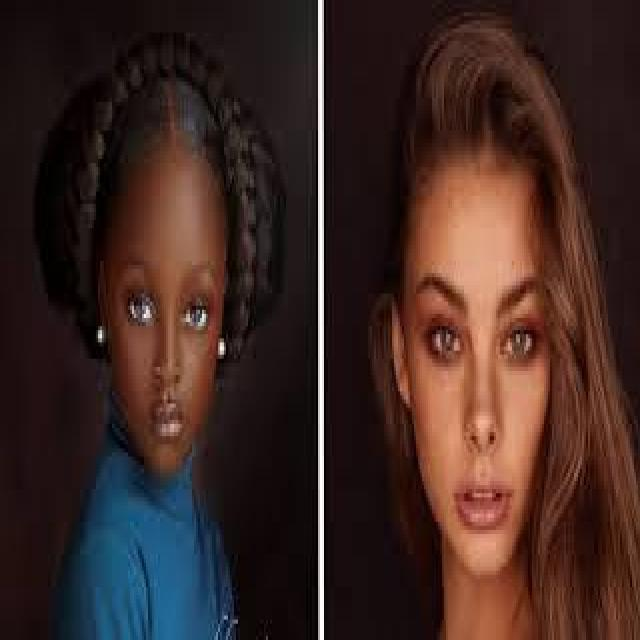person: (372, 33, 624, 636), (44, 45, 266, 636)
